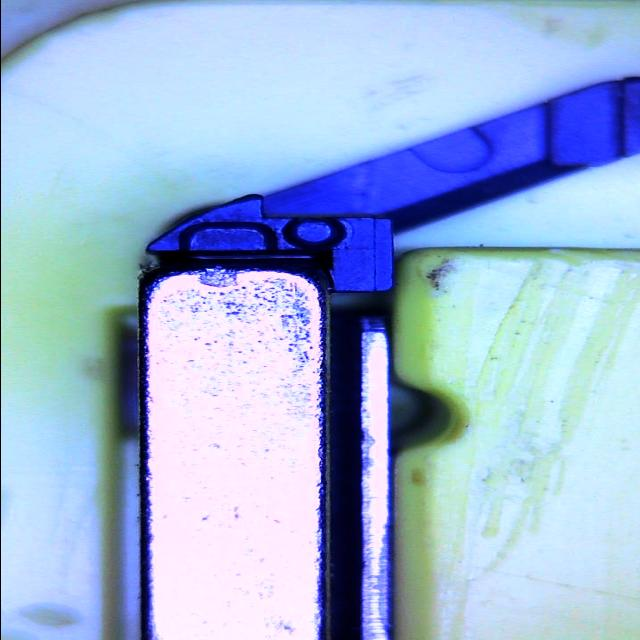good: (178, 222, 280, 258)
